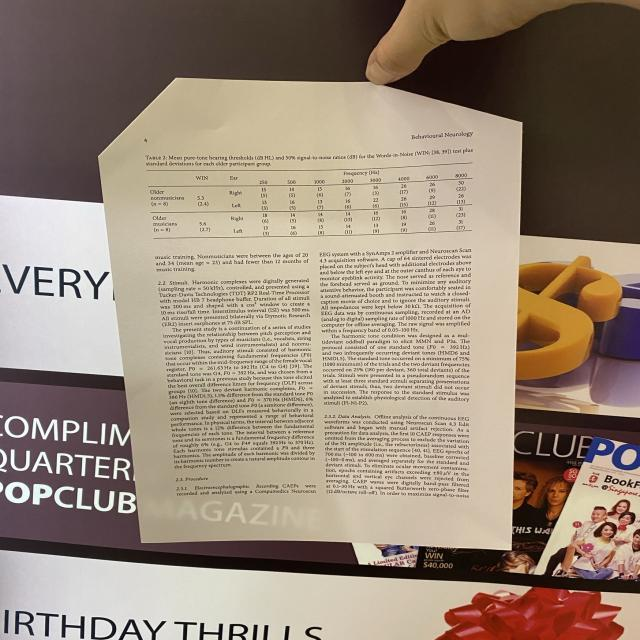document: (101, 79, 521, 549)
